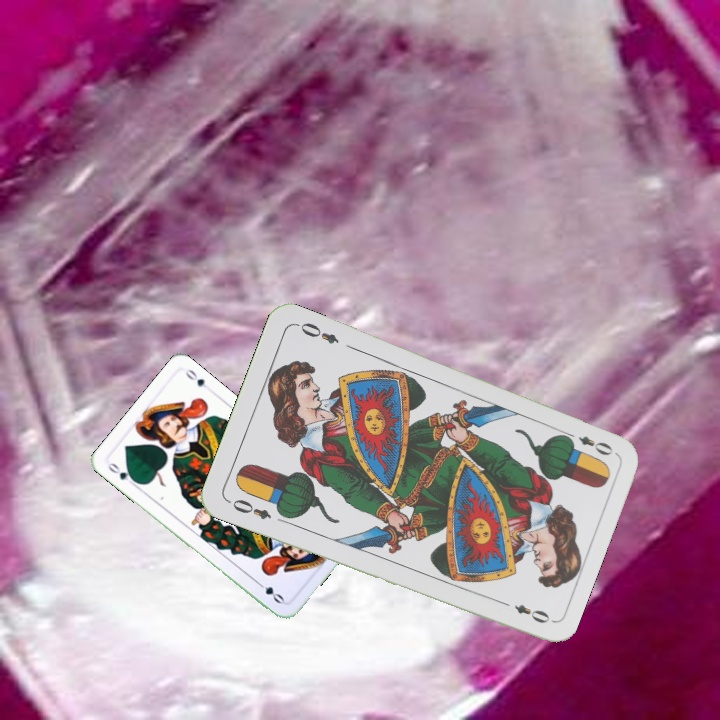EO: (560, 427, 616, 458), (223, 494, 274, 522)
GO: (104, 458, 140, 489)
